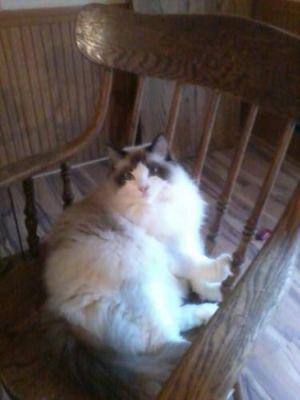ragdoll: (100, 129, 187, 213)
